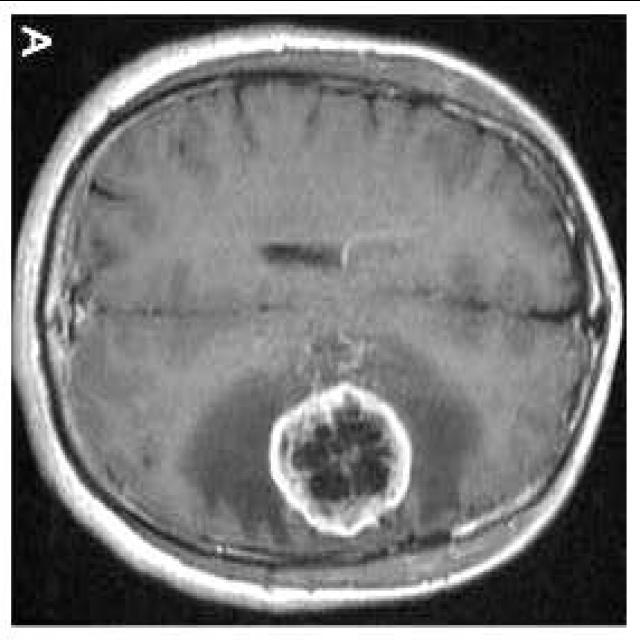tumor: (263, 386, 415, 535)
